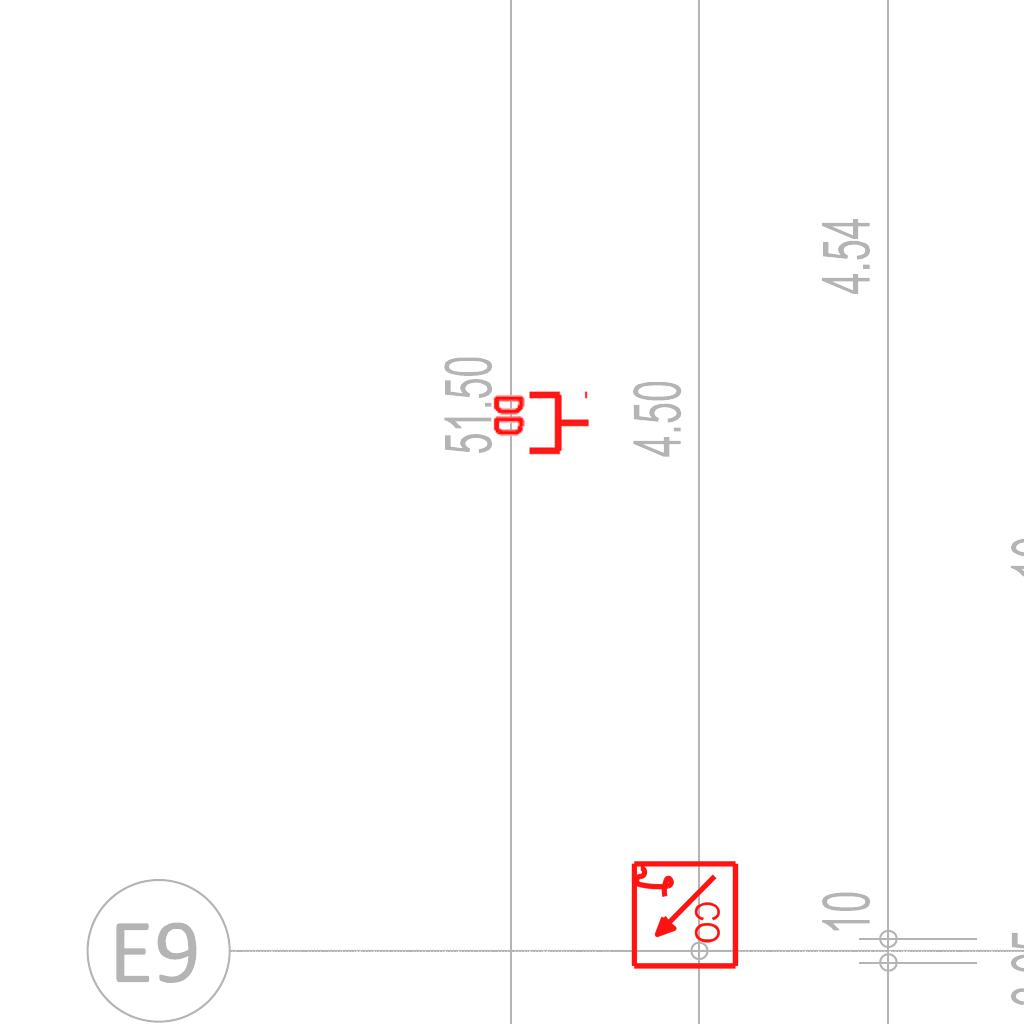Datenanschluss_zweifach: (489, 390, 592, 459)
ROA_Rauchmelder_optisch_mit_Signalgeber_(Sockelsirene): (627, 859, 740, 972)
